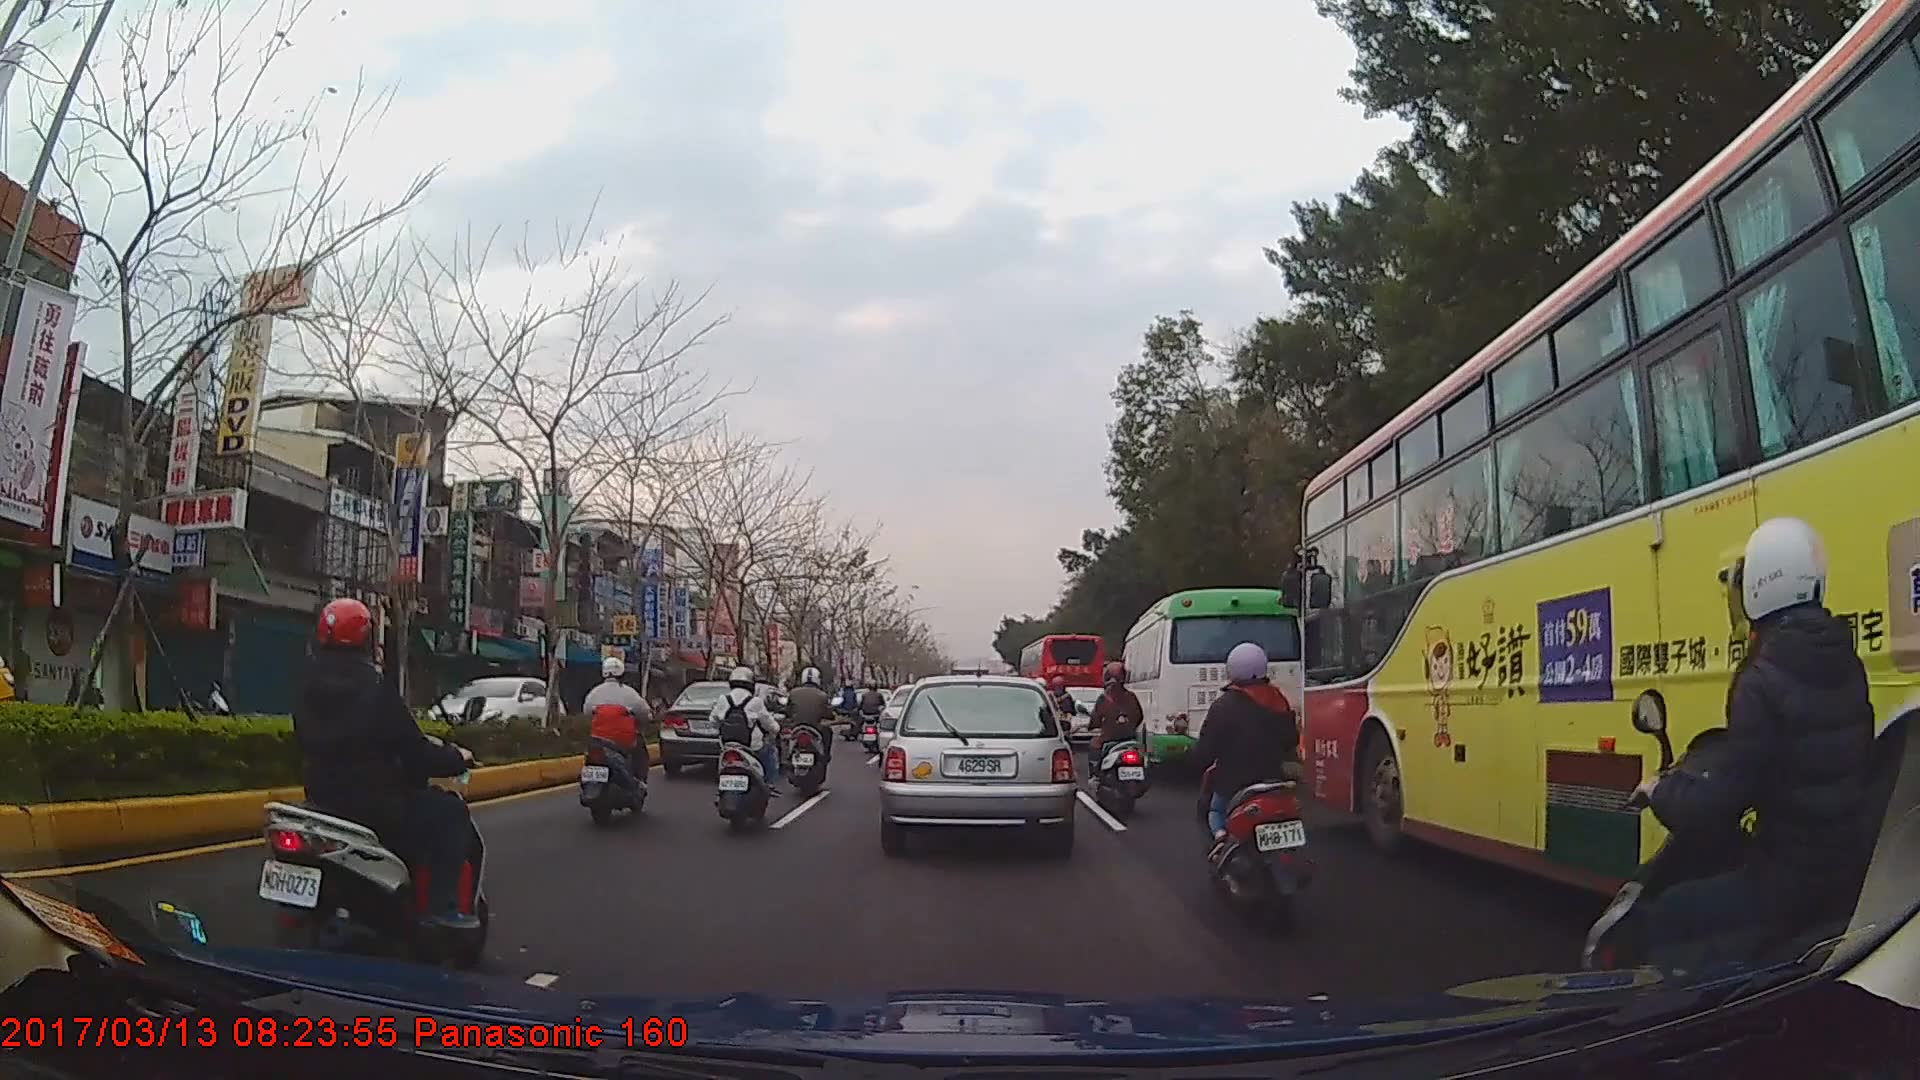rider: (1582, 518, 1919, 1045), (261, 595, 488, 970), (1188, 641, 1315, 932), (583, 655, 655, 824), (712, 665, 782, 831), (1089, 664, 1150, 805), (782, 667, 842, 799), (858, 681, 889, 754), (841, 681, 862, 724)
vehicle: (1299, 0, 1920, 1006), (1115, 585, 1307, 775), (878, 672, 1076, 850), (658, 679, 799, 781), (418, 668, 573, 759), (1017, 631, 1106, 742)
